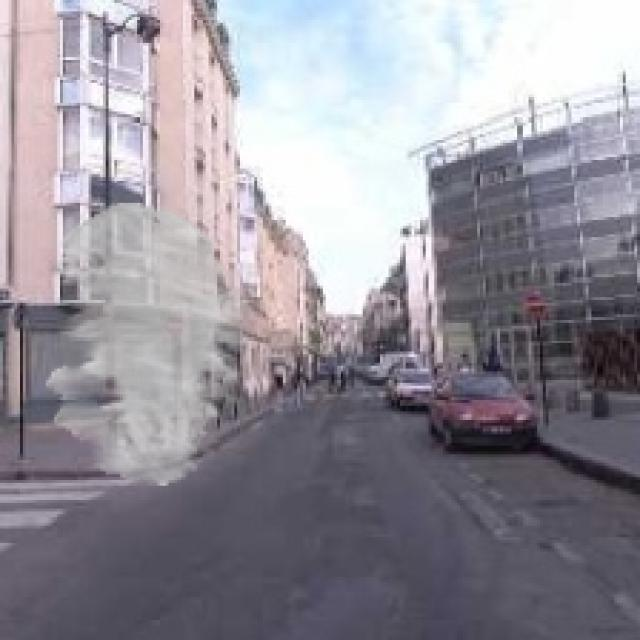smoke: (46, 203, 251, 486)
